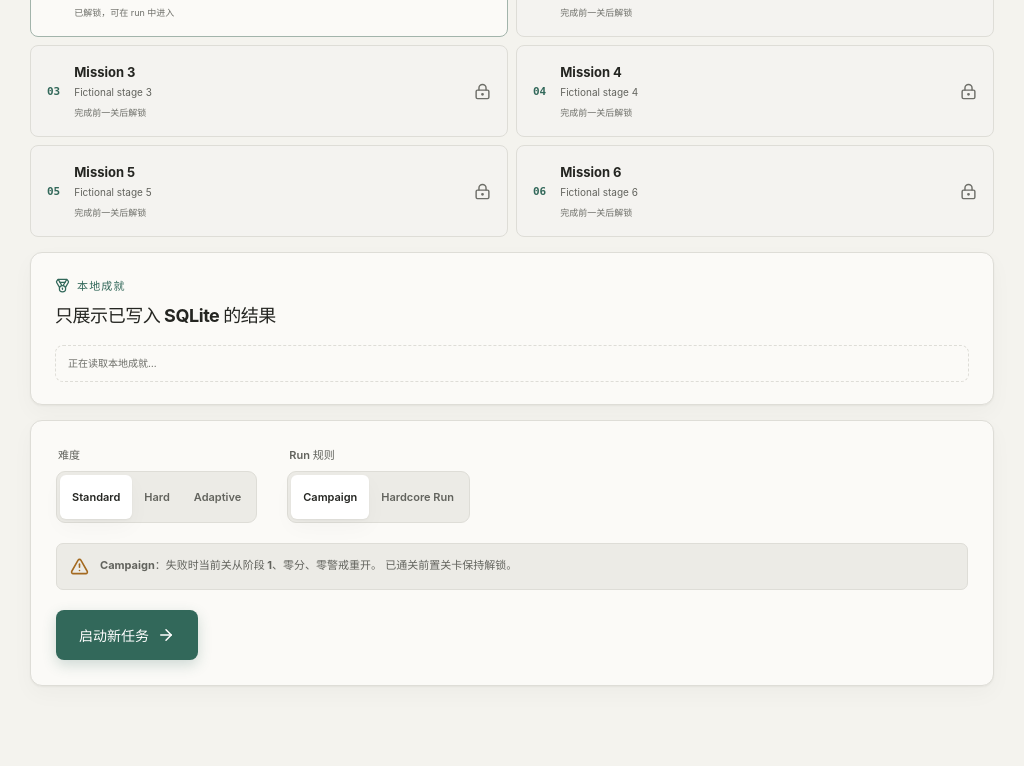
GamePage persisted progress › surfaces run creation failures without leaving an unhandled action
(page scrolled)
Click the button "启动新任务".
click(127, 635)  # box x1=56 y1=610 x2=198 y2=660
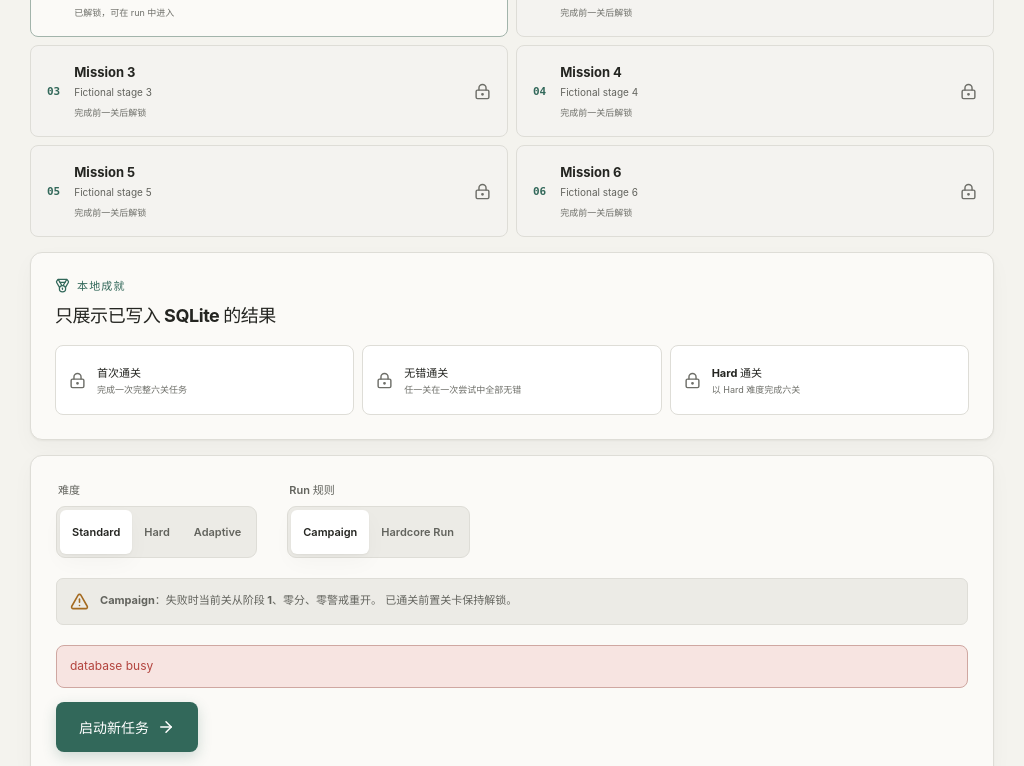
Expected: the button "启动新任务" is enabled, x1=56 y1=702 x2=198 y2=752
Now the message reads "database busy", box x1=70 y1=658 x2=153 y2=673
